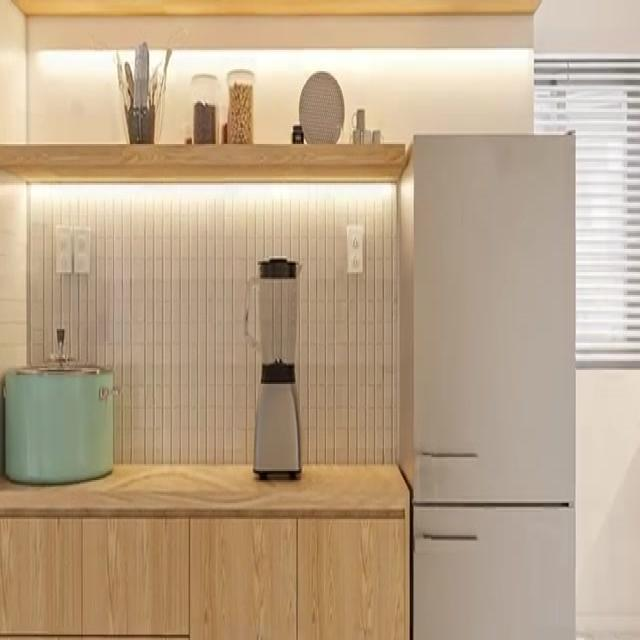obstacle: (397, 130, 577, 638), (0, 461, 411, 638)
